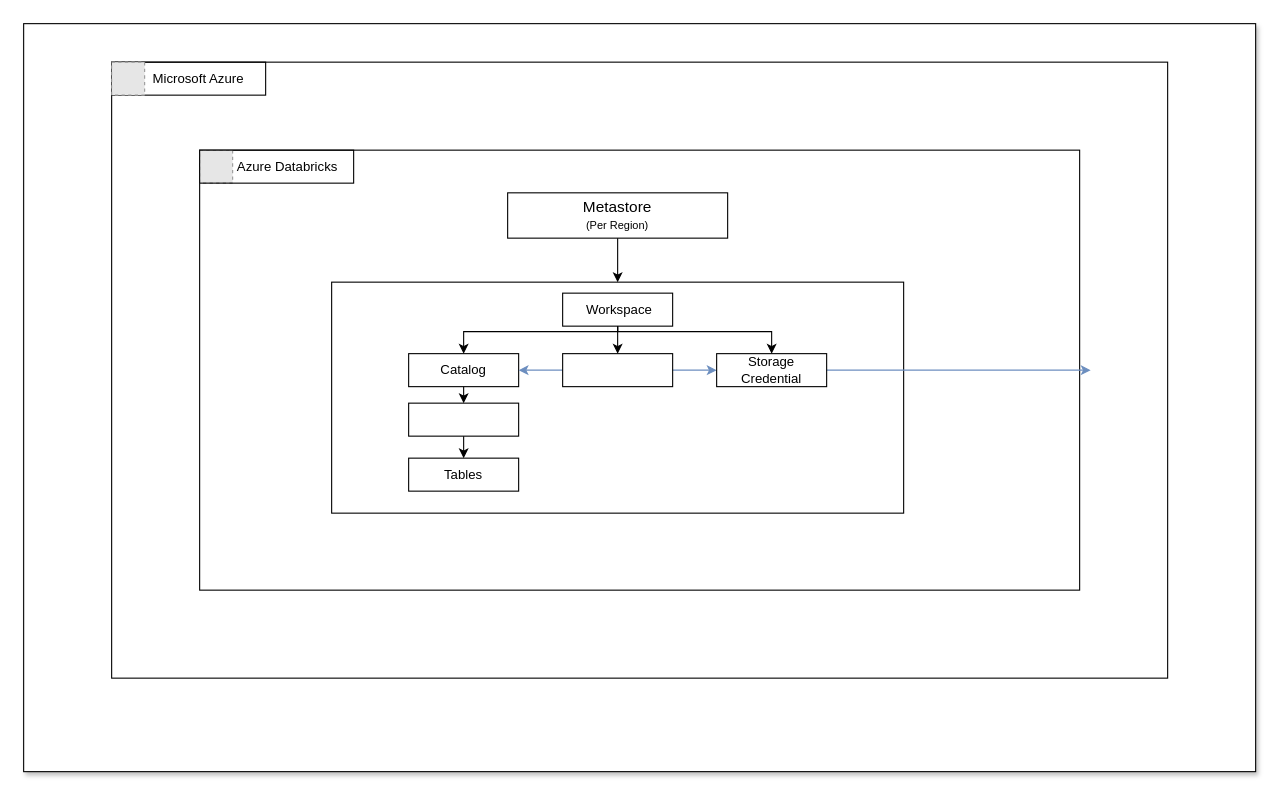
Image size: 1282x799. Some labels were removed from this diagram. Grey dashed boxes stand in for pictures. The centre of each missing label's shape, as x and y in pixels:
"External Location" belongs at pixel 617 370.
"Schema" belongs at pixel 463 419.
